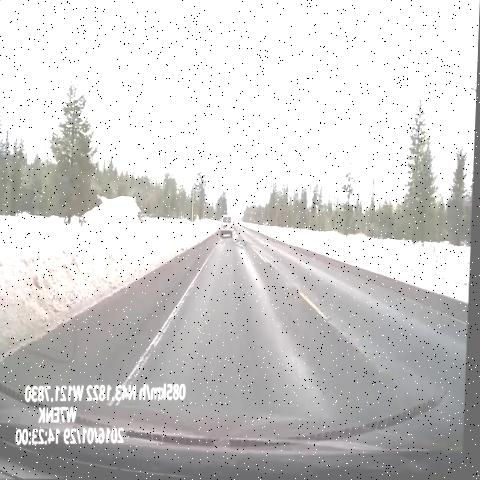pothole: (235, 229, 248, 259)
